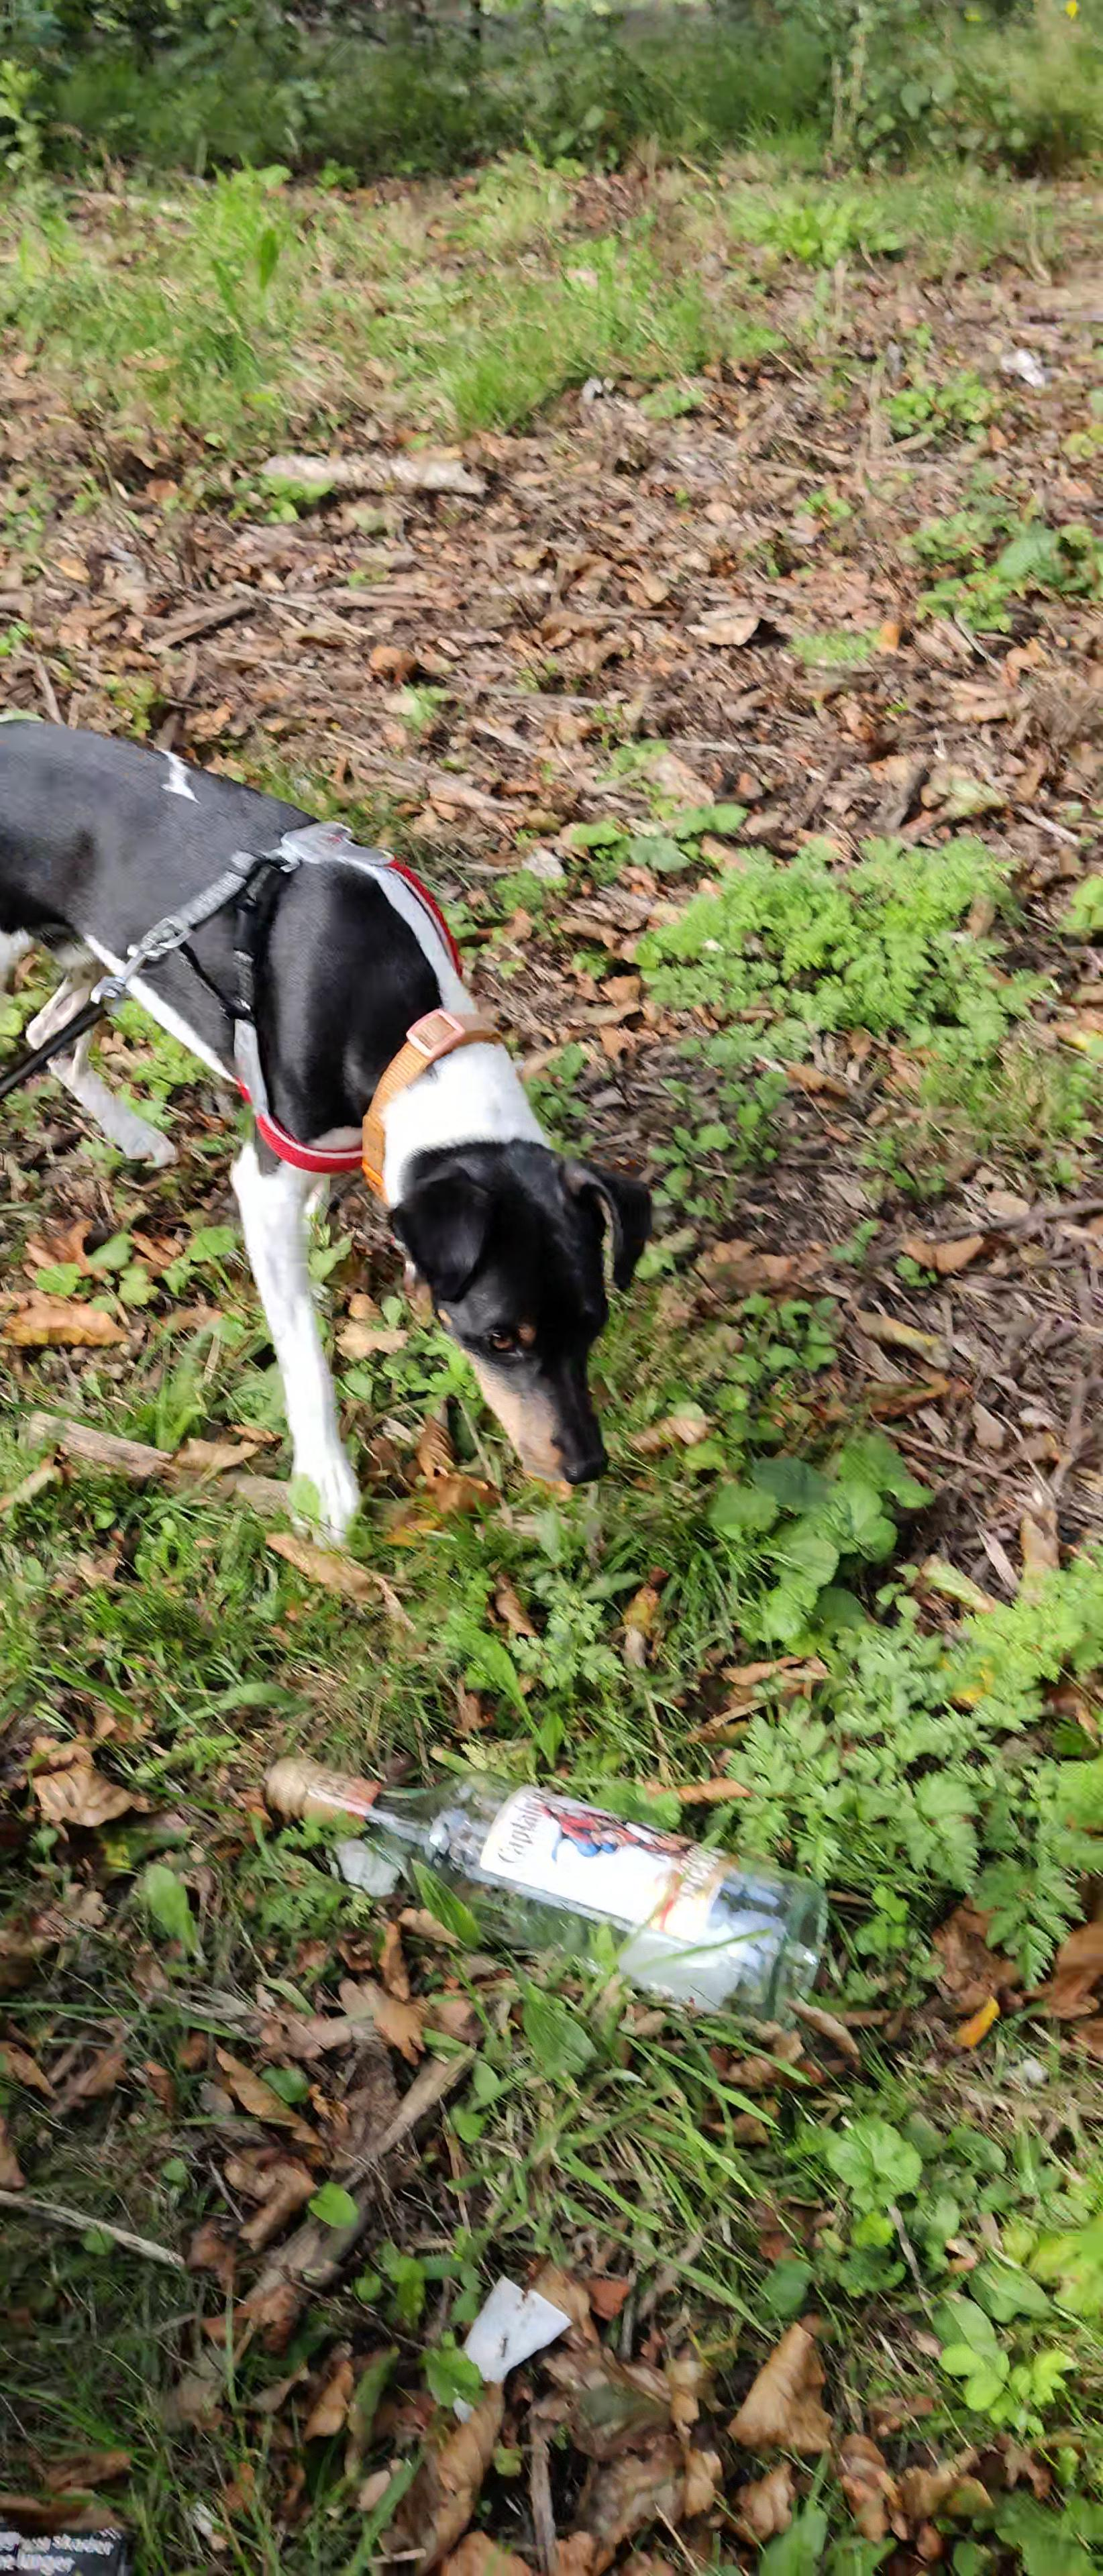Dog: (0, 693, 695, 1575)
